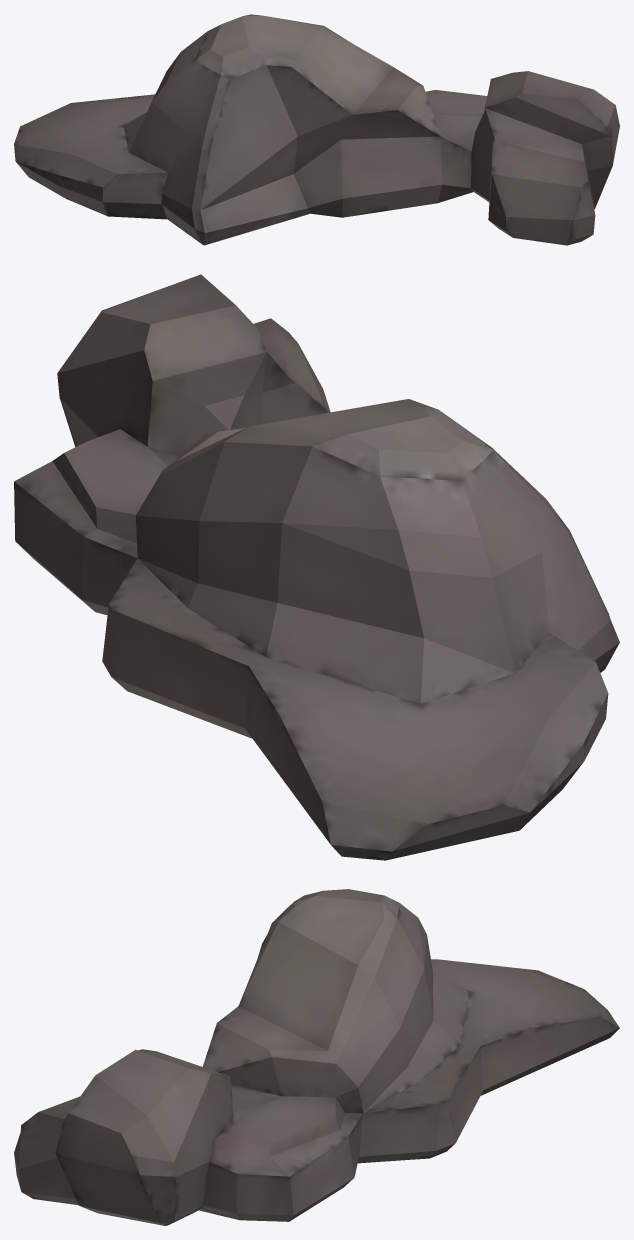
3 views of the same model, one above another, from view 1: azimuth 30°, elevation 25°; view 2: azimuth 150°, elevation 25°; view 3: azimuth 270°, elevation 25° (orthographic). The views are drawn at different scales.
Parts seen in each view (by area): view 1: body0_model0_lod0_mesh0; view 2: body0_model0_lod0_mesh0; view 3: body0_model0_lod0_mesh0.
Boxes of the visible parts, x1=… form: body0_model0_lod0_mesh0: x1=14, y1=14, x2=619, y2=245; body0_model0_lod0_mesh0: x1=14, y1=274, x2=619, y2=860; body0_model0_lod0_mesh0: x1=14, y1=889, x2=619, y2=1225.
Bounding box in the file's own units: 456 × 160 × 464.
1 material, 1 textured.
